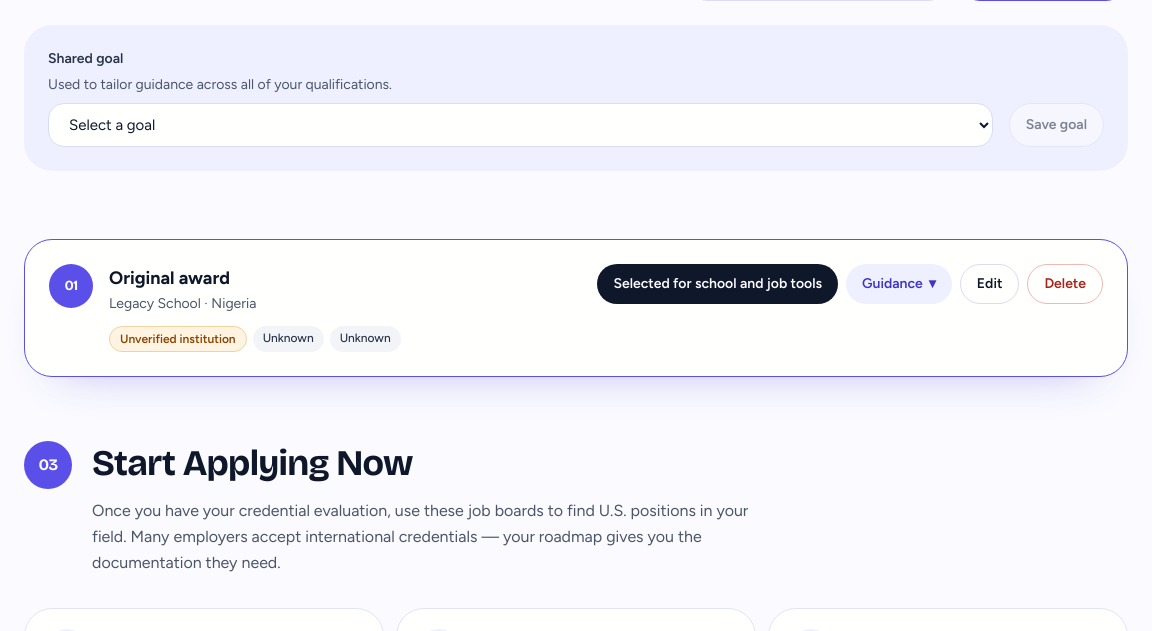
Country picker and backward-compatible award editing › keeps a saved legacy country value Nigeria intact
The image size is (1152, 631).
(page scrolled)
Click the button with test id "button-edit-legacy-qualification". click: coordinates (990, 284)
box: left=960, top=264, right=1019, bottom=304
(page scrolled)
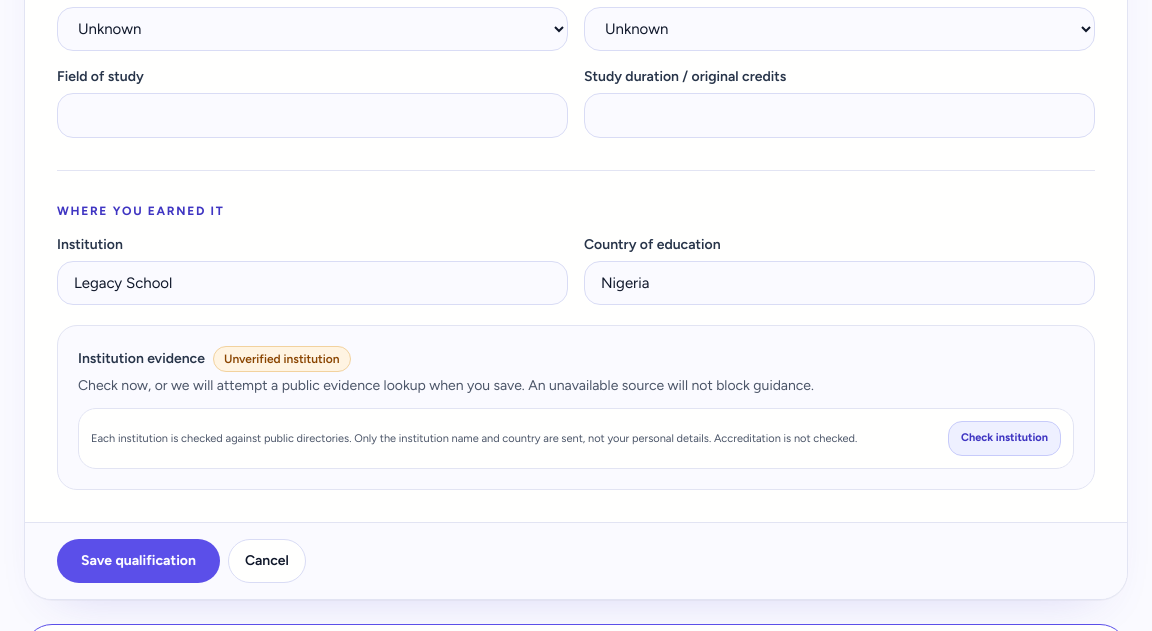
Expected: the field with test id "input-country" holds "Nigeria", left=584, top=261, right=1095, bottom=305
